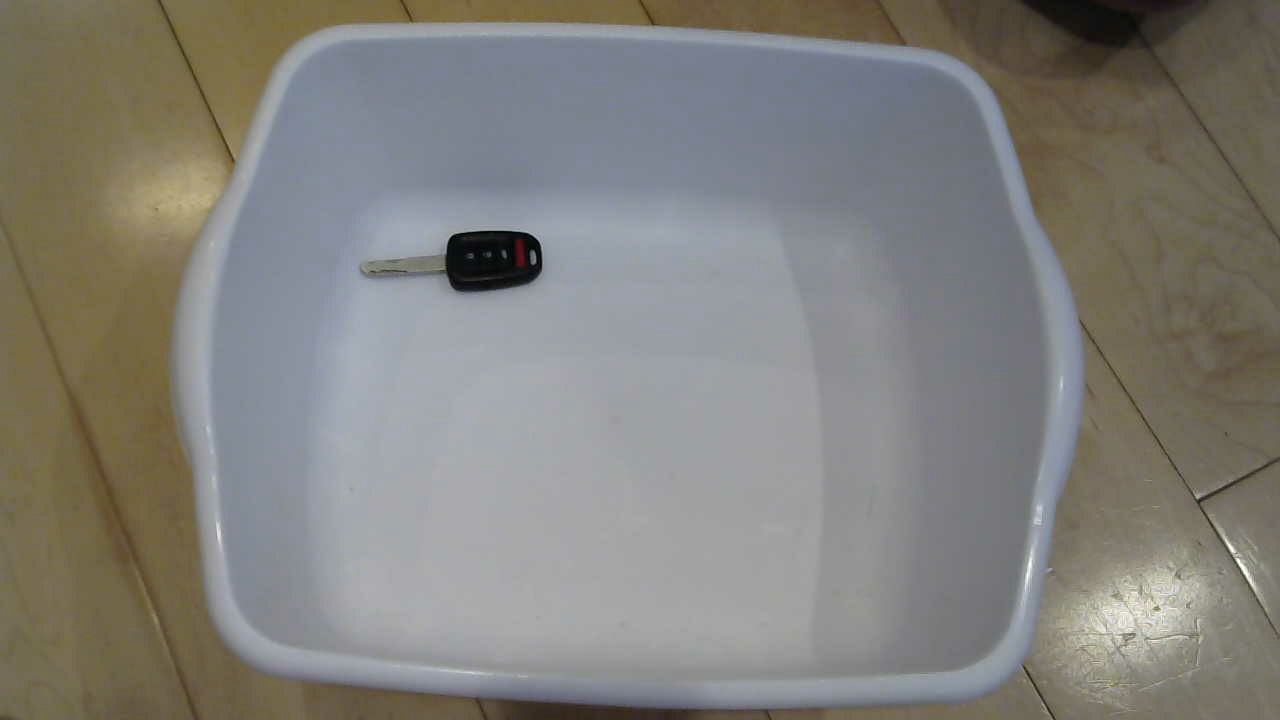key: (345, 216, 571, 312)
